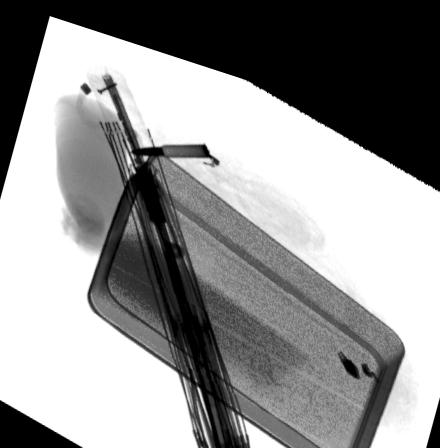Bullet: (126, 131, 211, 147)
